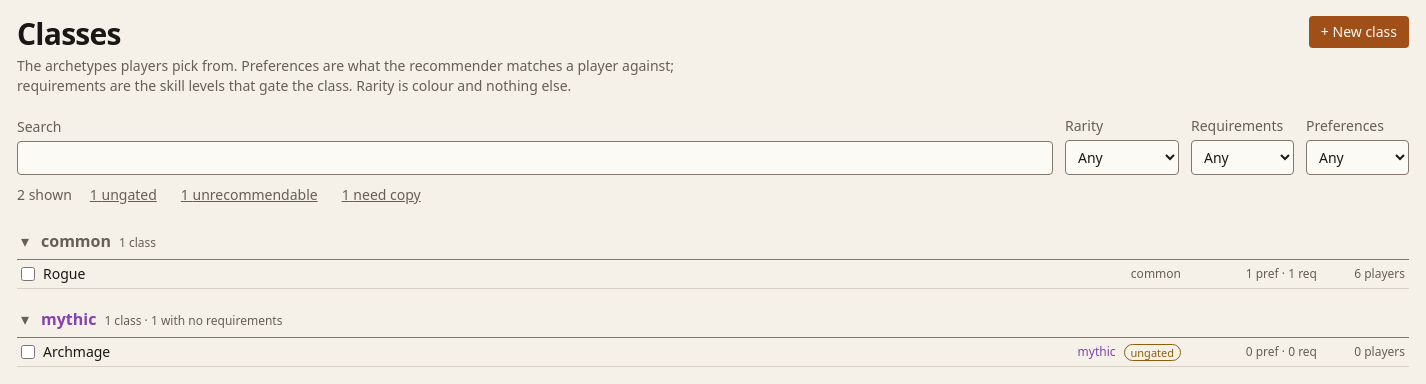
Test case: AdminClassesPage › searches by name
Expected: the button "Rogue" is shown, top-left (43, 264), bottom-right (1123, 284)
In the field named "Search classes": (535, 158) top-left (17, 141), bottom-right (1053, 175), type "arch"
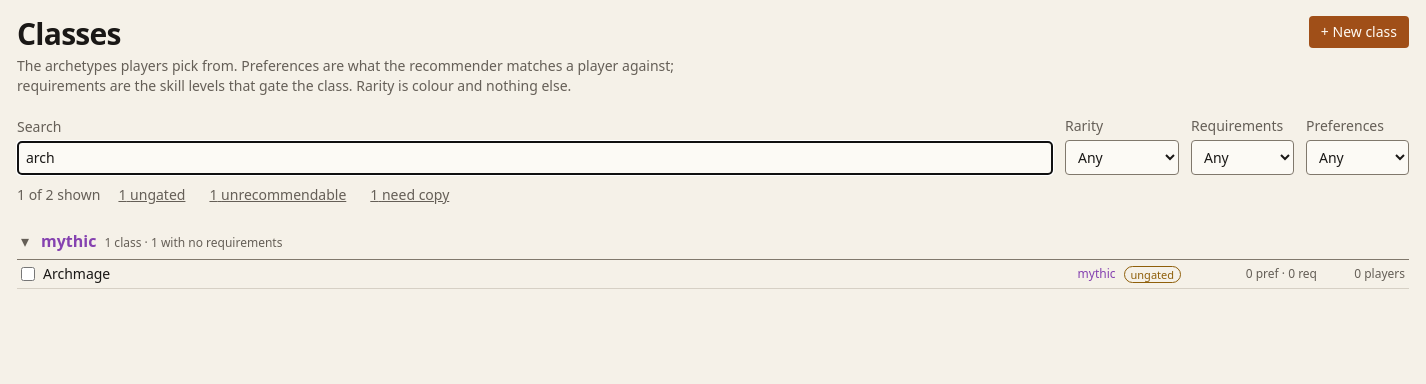
Expected: the button "Archmage" is shown, top-left (43, 264), bottom-right (1070, 284)
Expected: the button "Rogue" is gone
